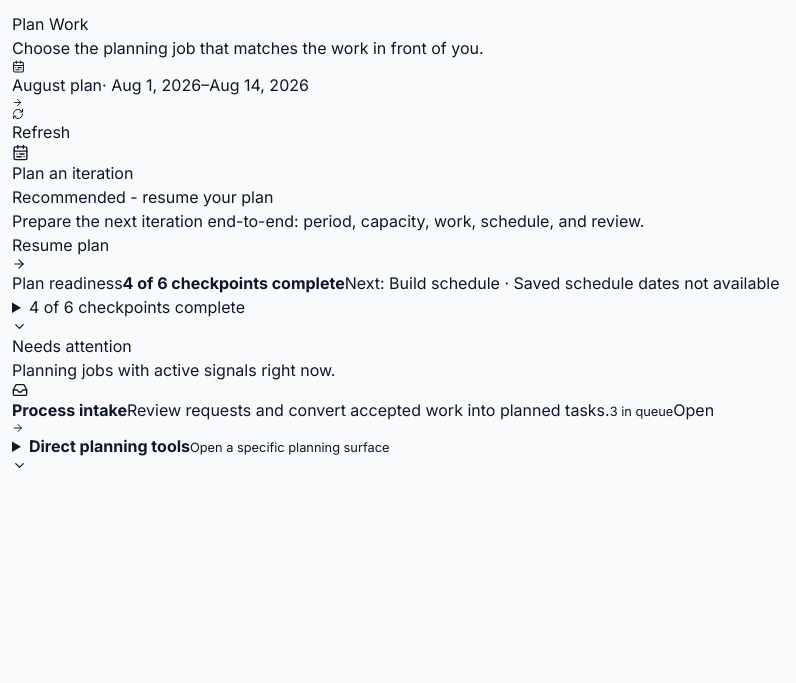
Test: PlanPage mixed planning launcher › keeps readiness in one accessible, progressively disclosed launch surface
Check: the text "Plan readiness" is shown, box [12,273,123,293]
Step 1. Click the heading "4 of 6 checkpoints complete" → (128, 316), box [12,297,245,334]
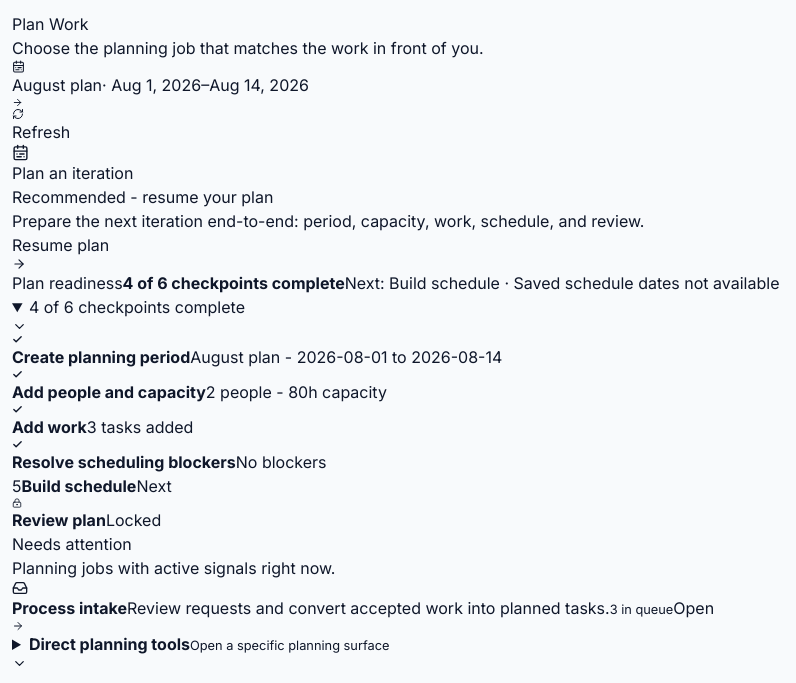
Check: the number of list items is 6, box [12,334,502,367]; [12,369,387,402]; [12,404,193,437]; [12,439,327,472]; [12,476,172,496]; [12,498,161,530]
